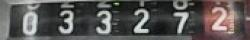digits: (18, 8, 44, 40), (132, 7, 150, 33), (57, 8, 74, 33), (211, 5, 228, 29), (94, 8, 110, 33), (171, 11, 189, 33)
